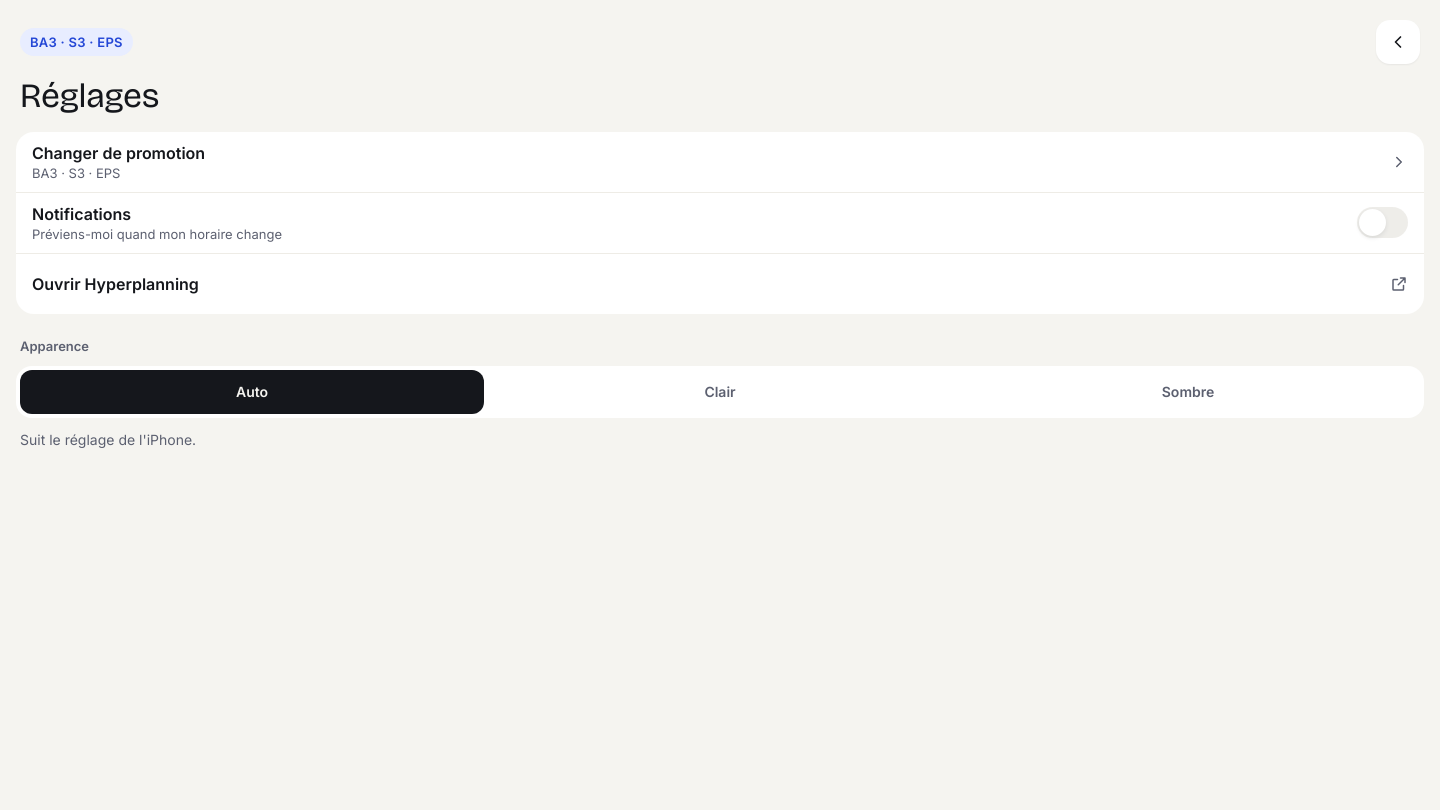
Scenario: Réglages · Apparence › click_sombre_saves_and_applies
Click the button "Sombre". click: point(1188, 392)
box: x1=956 y1=370 x2=1420 y2=414
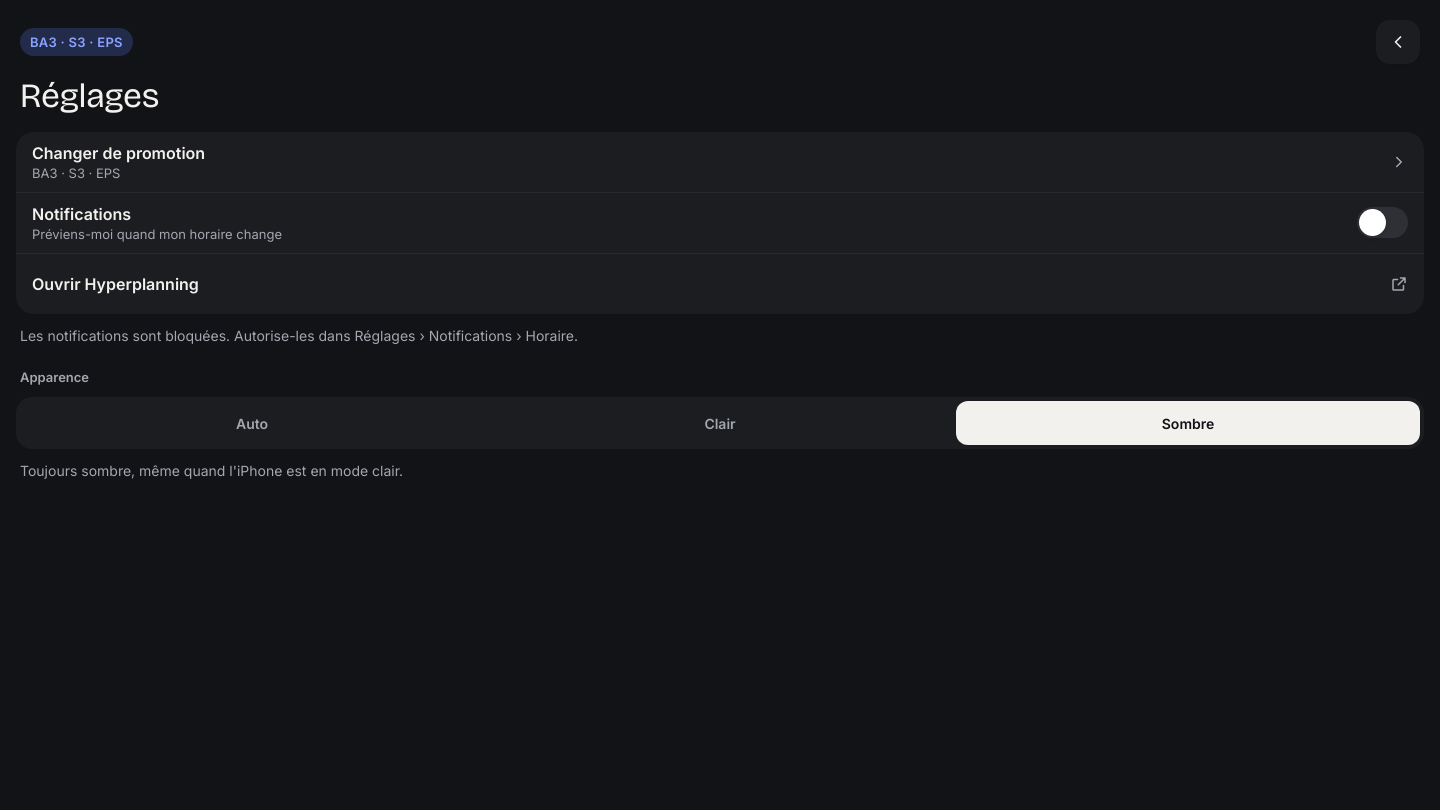
Now the text "Toujours sombre, même quand l'iPhone est en mode clair." is shown, box x1=20 y1=462 x2=403 y2=479
